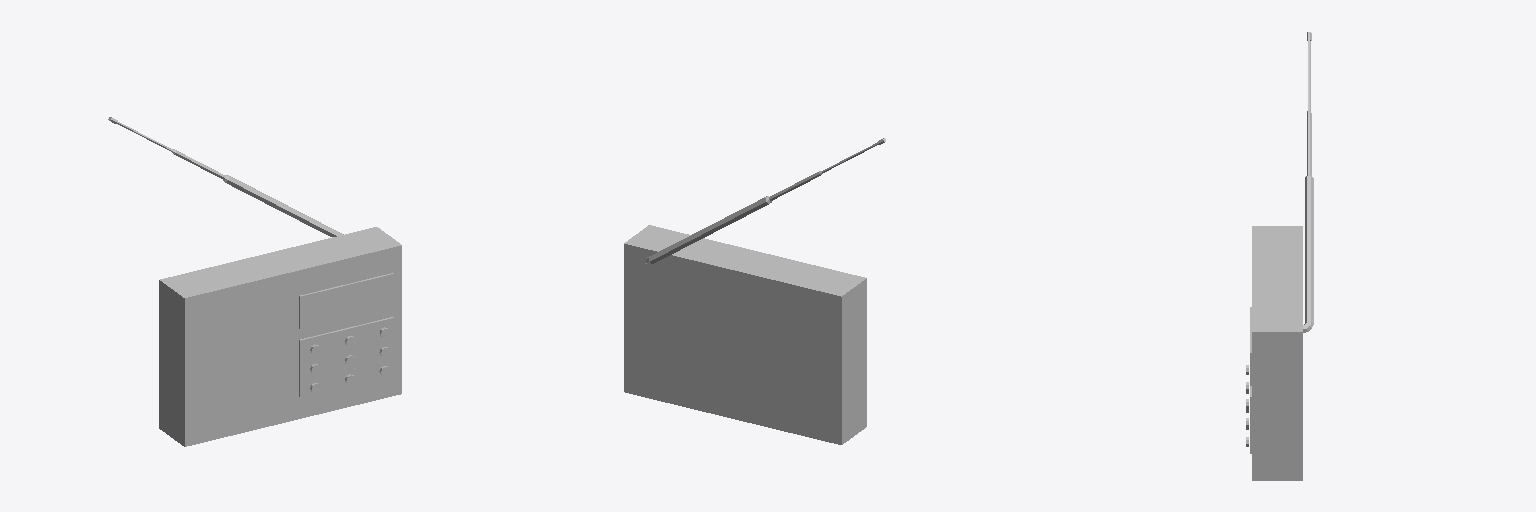
The model's file is radioLowPoly.obj.
3 views of the same model, side by side, from view 1: azimuth 30°, elevation 25°; view 2: azimuth 150°, elevation 25°; view 3: azimuth 270°, elevation 25° (orthographic).
Parts seen in each view (by area): view 1: radio_base.001_Cube.002, speaker.001_Cube.003, button_base.001_Plane.003, monitor.001_Plane.002, antenna.001_Circle.001, button.001_Cylinder.001; view 2: radio_base.001_Cube.002, speaker.001_Cube.003, antenna.001_Circle.001; view 3: radio_base.001_Cube.002, antenna.001_Circle.001.
Boxes of the visible parts, x1=… form: radio_base.001_Cube.002: x1=159, y1=227, x2=401, y2=446; speaker.001_Cube.003: x1=159, y1=286, x2=292, y2=430; button_base.001_Plane.003: x1=299, y1=317, x2=393, y2=397; monitor.001_Plane.002: x1=299, y1=273, x2=393, y2=329; antenna.001_Circle.001: x1=108, y1=117, x2=343, y2=236; button.001_Cylinder.001: x1=310, y1=327, x2=389, y2=392; radio_base.001_Cube.002: x1=624, y1=225, x2=866, y2=444; speaker.001_Cube.003: x1=733, y1=285, x2=866, y2=428; antenna.001_Circle.001: x1=646, y1=138, x2=885, y2=264; radio_base.001_Cube.002: x1=1252, y1=226, x2=1302, y2=480; antenna.001_Circle.001: x1=1303, y1=32, x2=1313, y2=332.
Size of the model in its own units: 0.688 by 0.7946 by 0.1515.